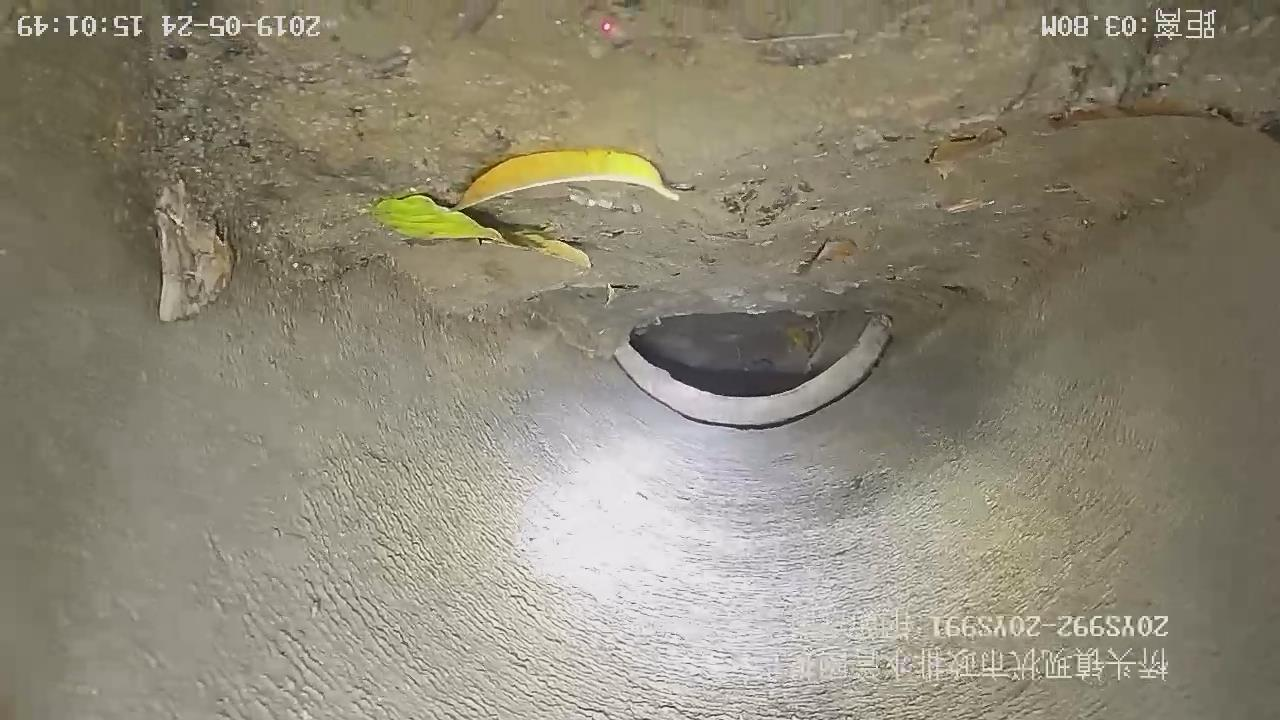CJ: (153, 1, 1280, 348)
CKTJ: (614, 316, 891, 430)
